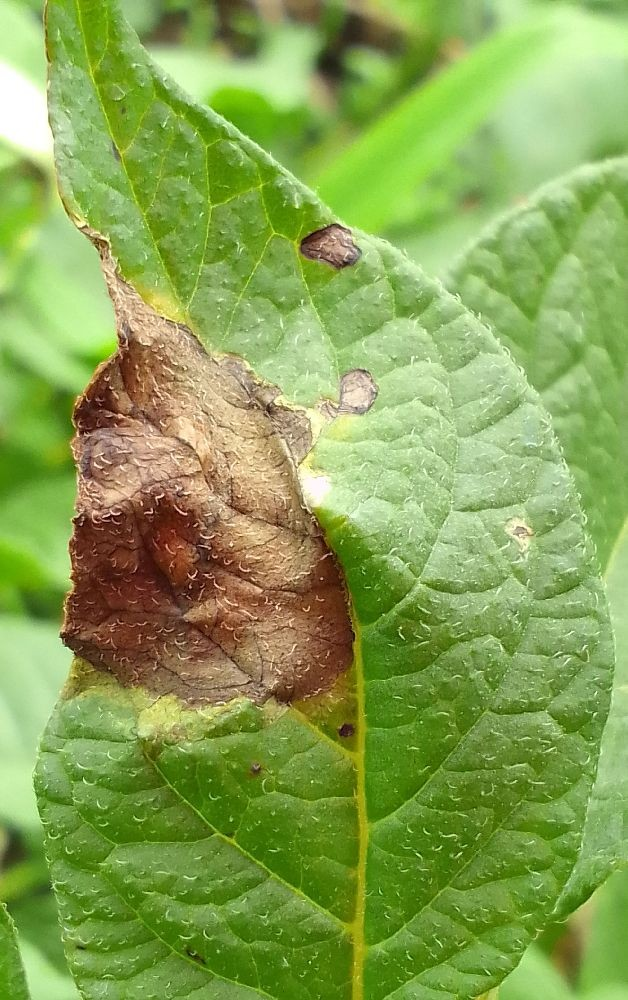late_blight: (49, 309, 380, 759), (174, 0, 436, 128), (293, 218, 360, 276)
